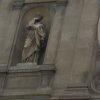Statue: (13, 8, 51, 71)
